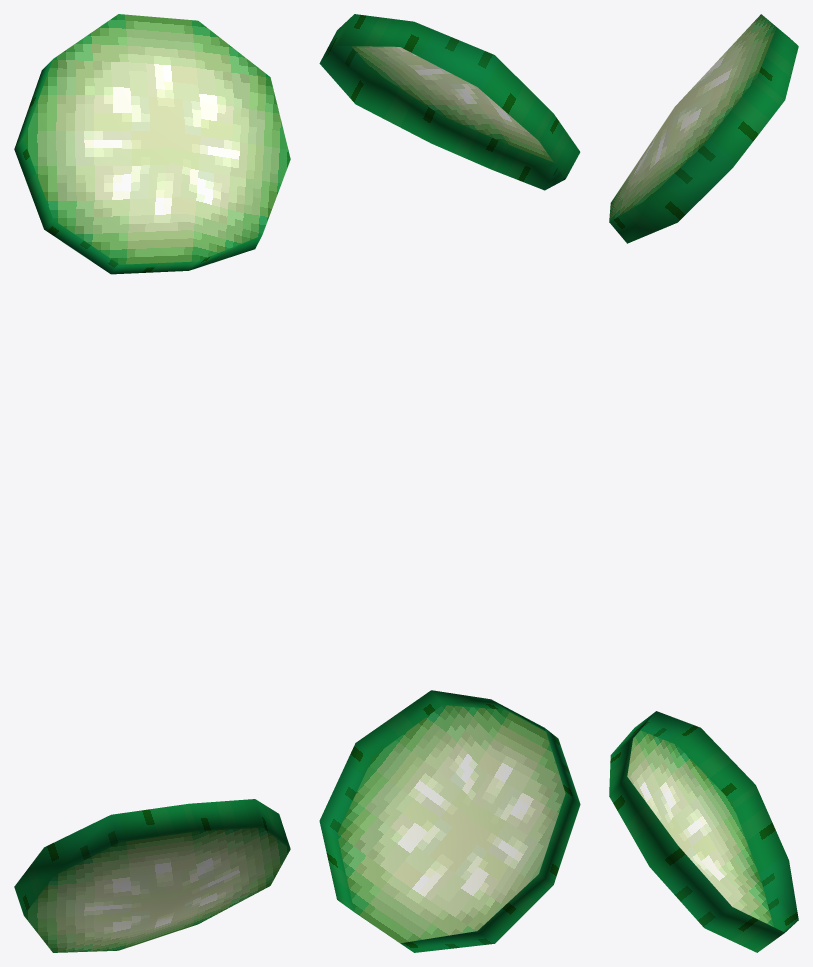
The model's file is acc_pack_cucumber.dae.
The picture shows the model from 3 angles, left to right: view 1: azimuth 30°, elevation 25°; view 2: azimuth 150°, elevation 25°; view 3: azimuth 270°, elevation 25°; orthographic projection. The views are drawn at different scales.
Parts seen in each view (by area): view 1: acc_pack_cucumber; view 2: acc_pack_cucumber; view 3: acc_pack_cucumber.
Boxes of the visible parts, x1,y1,x2,y2 form: acc_pack_cucumber: (14,14,290,952); acc_pack_cucumber: (319,14,580,952); acc_pack_cucumber: (609,14,798,952).
Size of the model in its own units: 4.69 by 17.83 by 3.38.
Materials: 1 (1 with a texture image).
